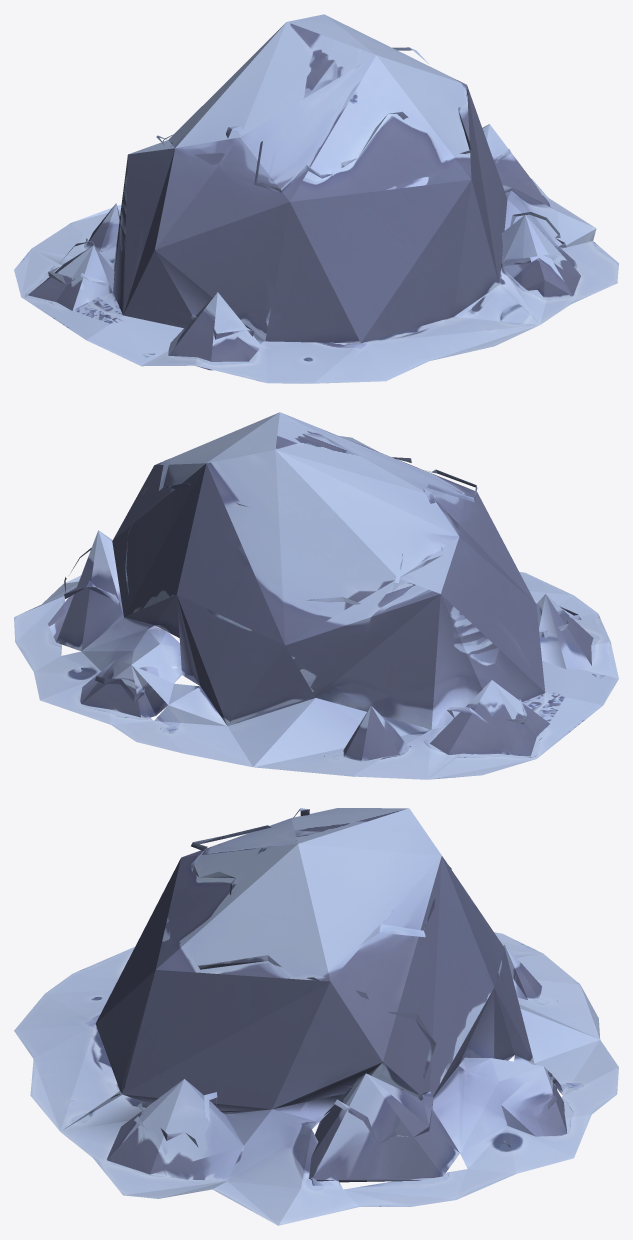
The model's file is rock01.glb.
3 views of the same model, one above another, from view 1: azimuth 30°, elevation 25°; view 2: azimuth 150°, elevation 25°; view 3: azimuth 270°, elevation 25° (orthographic). The views are drawn at different scales.
Visible parts, largest first — view 1: Rock01; view 2: Rock01; view 3: Rock01.
Boxes of the visible parts, x1=… form: Rock01: x1=14, y1=14, x2=618, y2=383; Rock01: x1=14, y1=412, x2=618, y2=779; Rock01: x1=14, y1=808, x2=618, y2=1225.
Size of the model in its own units: 0.9999 by 0.4275 by 0.8668.
1 material, 1 textured.
